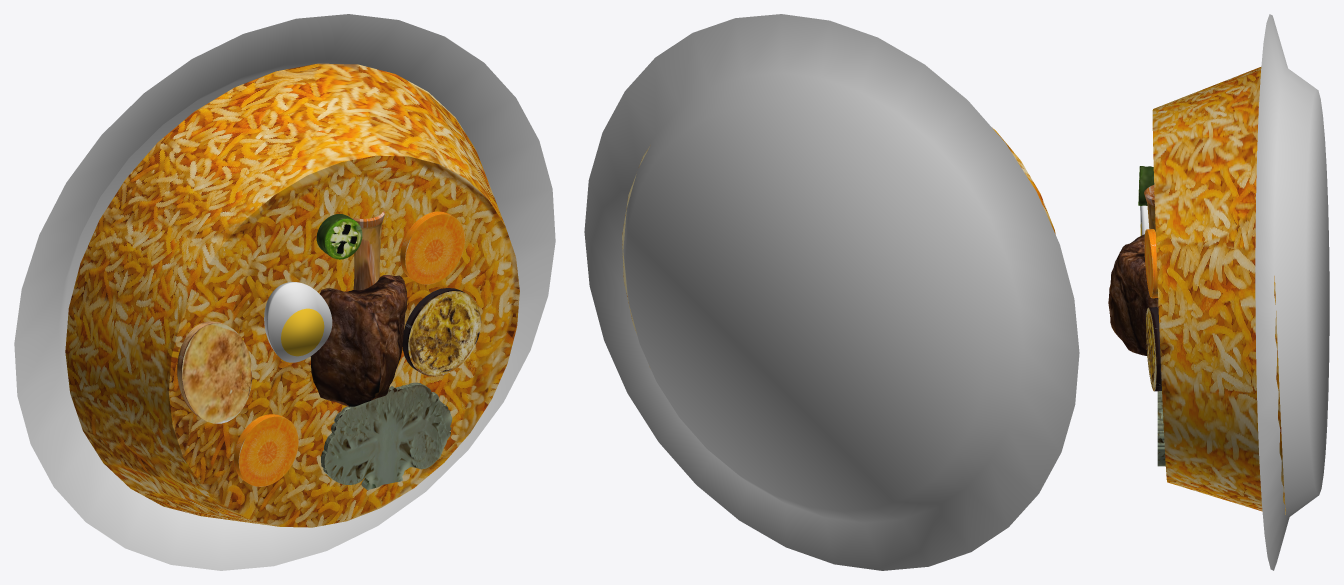
File: smallmaqluba.glb
3 renders of one model, left to right at view 1: azimuth 30°, elevation 25°; view 2: azimuth 150°, elevation 25°; view 3: azimuth 270°, elevation 25°, orthographic. The views are drawn at different scales.
Parts seen in each view (by area): view 1: Cylinder.002, Circle.002, Vert, Cube, Cylinder.003, Cylinder.004, Sphere, Cylinder.005, Cylinder.001, Cylinder, Cylinder.006; view 2: Circle.002, Cylinder.002; view 3: Cylinder.002, Circle.002, Cube, Cylinder.004, Cylinder.005, Vert, Cylinder.006, Cylinder.
Boxes of the visible parts, box(x1,y1,x2,y2) form: Cylinder.002: box(65, 63, 519, 527); Circle.002: box(14, 14, 555, 570); Vert: box(321, 382, 452, 489); Cube: box(310, 275, 407, 406); Cylinder.003: box(177, 321, 252, 423); Cylinder.004: box(402, 288, 481, 376); Sphere: box(264, 282, 332, 362); Cylinder.005: box(400, 211, 465, 284); Cylinder.001: box(233, 414, 298, 486); Cylinder: box(352, 210, 385, 290); Cylinder.006: box(316, 214, 362, 259); Circle.002: box(584, 14, 1079, 570); Cylinder.002: box(622, 127, 1055, 366); Cylinder.002: box(1152, 67, 1285, 514); Circle.002: box(1255, 14, 1329, 570); Cube: box(1108, 234, 1158, 355); Cylinder.004: box(1146, 307, 1161, 391); Cylinder.005: box(1144, 229, 1157, 298); Vert: box(1157, 391, 1165, 466); Cylinder.006: box(1138, 166, 1154, 205); Cylinder: box(1144, 185, 1155, 231).
Bounding box in the file's own units: 7.78 × 7.79 × 3.09.
12 materials, 9 textured.
